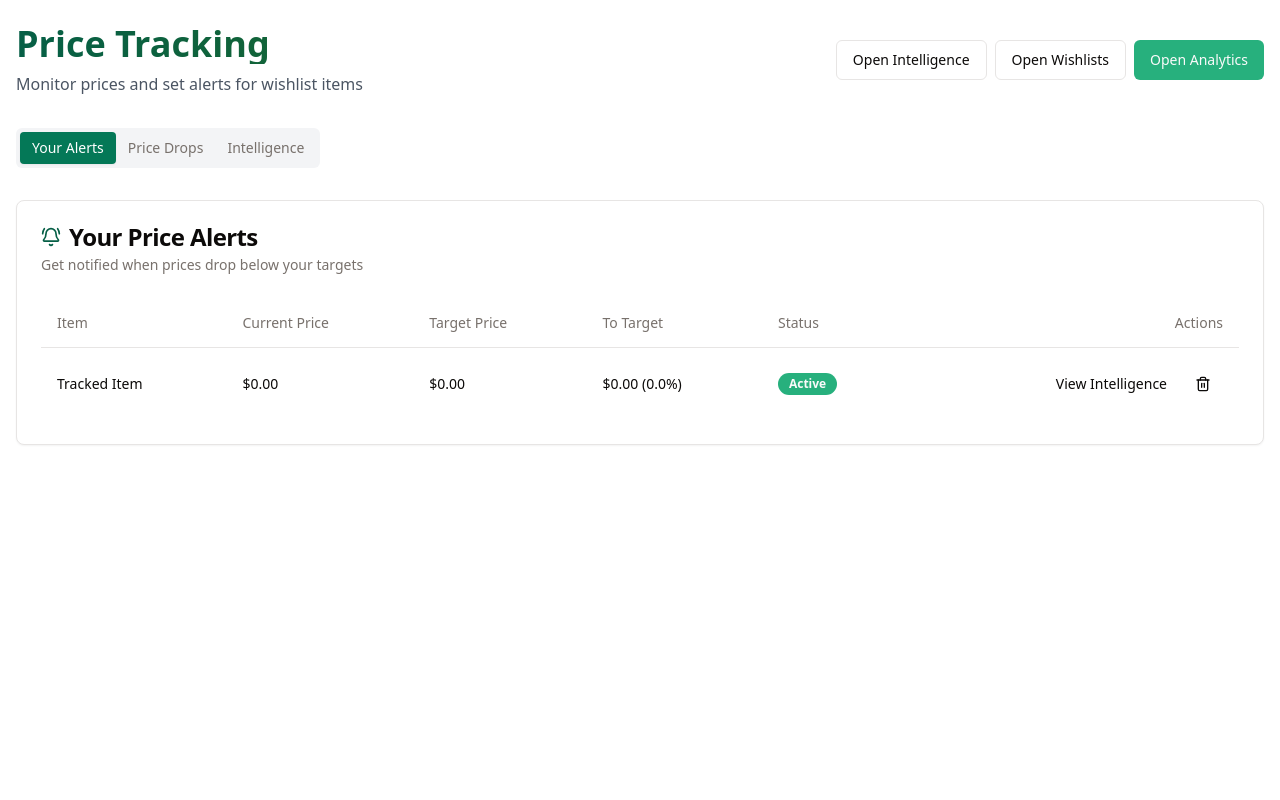
Scenario: PriceTracking Page › renders drop and volatility cards when data is available
Click the tab "Price Drops" at (166, 148), box [116, 132, 215, 164]
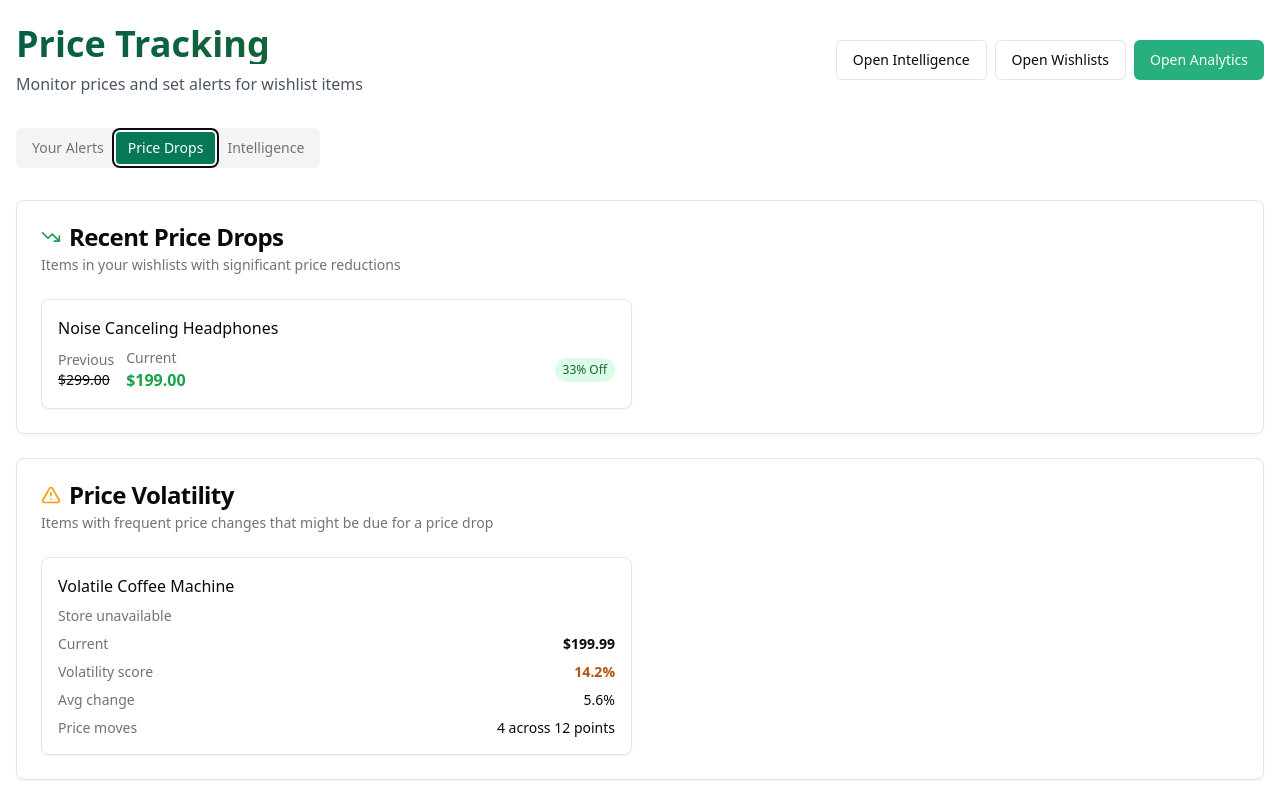
Expected: the heading "Noise Canceling Headphones" is shown, [58, 317, 278, 339]
Expected: the heading "Volatile Coffee Machine" is shown, [58, 575, 234, 597]
Expected: the text "33% Off" is shown, [554, 358, 615, 382]
